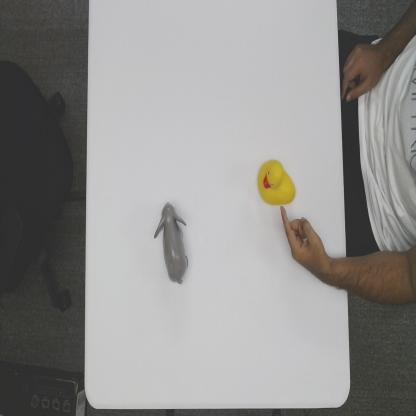Duck: (256, 156, 296, 207)
Elephant: (154, 201, 188, 286)
Hand: (280, 204, 328, 281)
